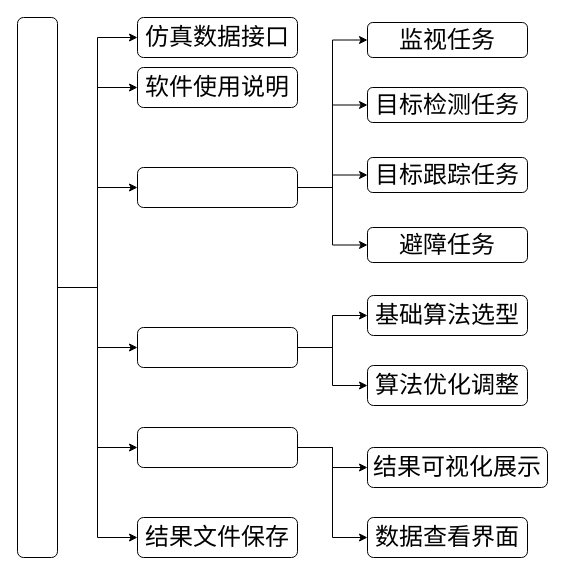
Some shapes in this 565 by 575 pixel diagram are drawn without their labels. Here are the shapes that lost their labels. From the top down, the centre of each, then its label:
point 217,187: 传感器配置
point 37,287: 无人机载感知数据管理与特征分析软件
point 217,347: 算法应用接口
point 217,447: 图形用户界面
